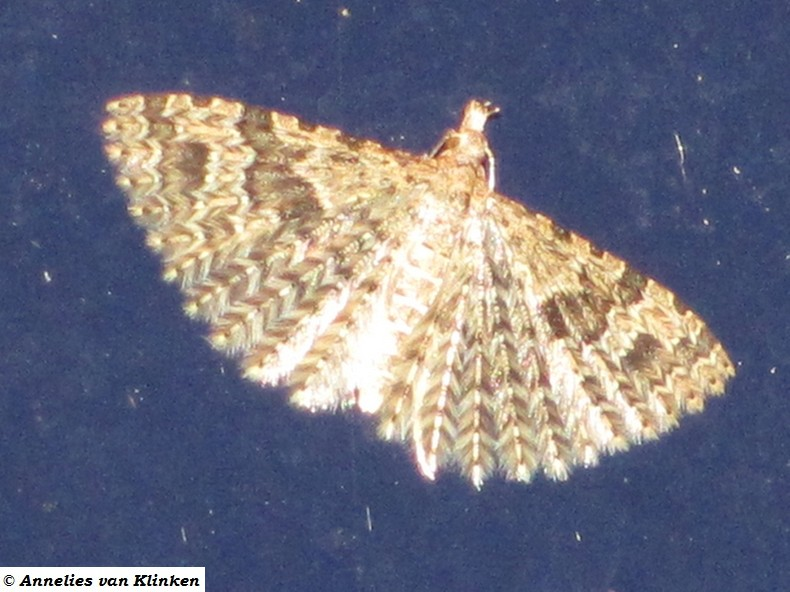Alucitidae: (96, 70, 737, 485)
moth: (98, 72, 739, 487)
